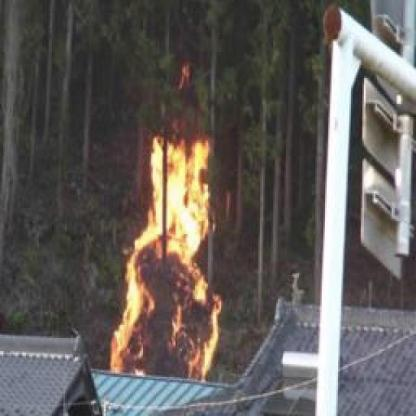fire: (110, 132, 231, 382)
